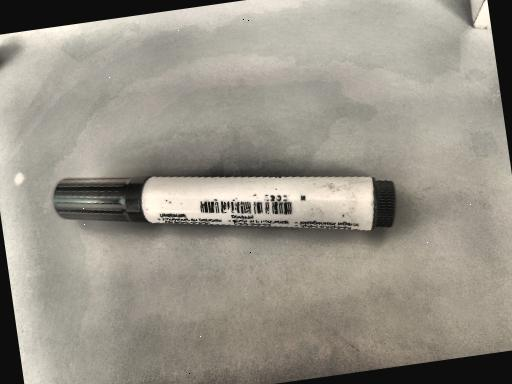marcador negro: (54, 175, 396, 230)
